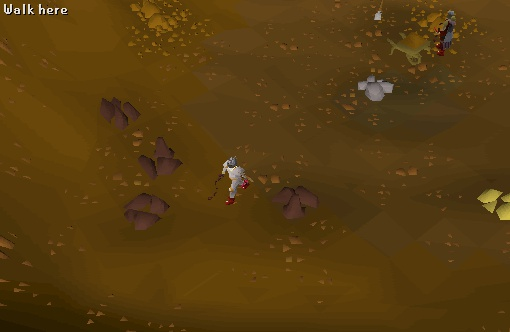iron: (267, 173, 328, 226), (119, 183, 180, 236), (130, 132, 191, 185), (89, 87, 150, 140)
